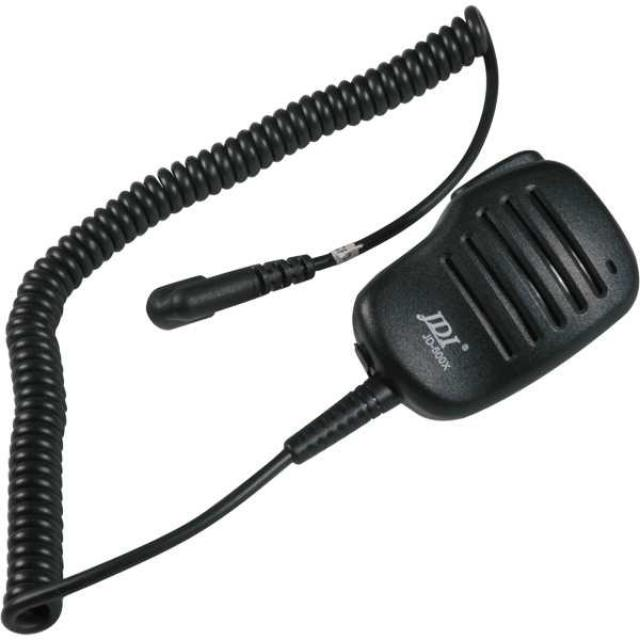microphone: (148, 226, 412, 328)
